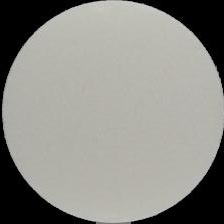61786-576: (0, 0, 224, 224)
